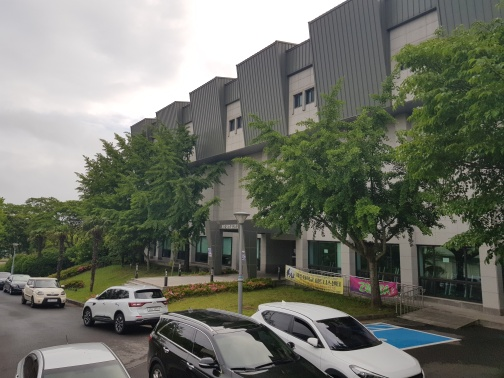Gym: (127, 8, 500, 313), (146, 16, 396, 150), (195, 215, 299, 284)
